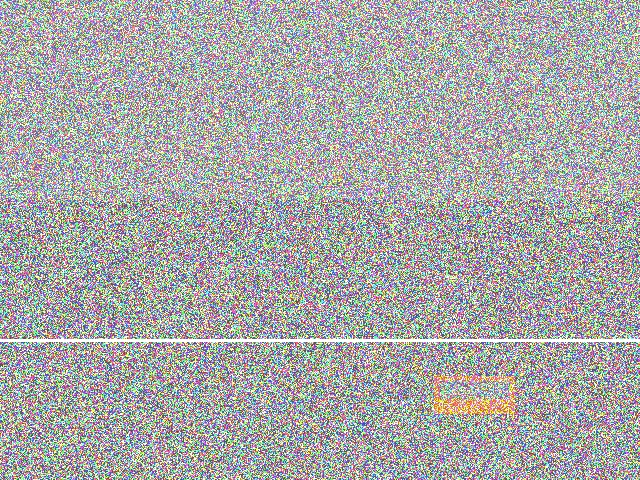bus: (5, 178, 187, 304)
